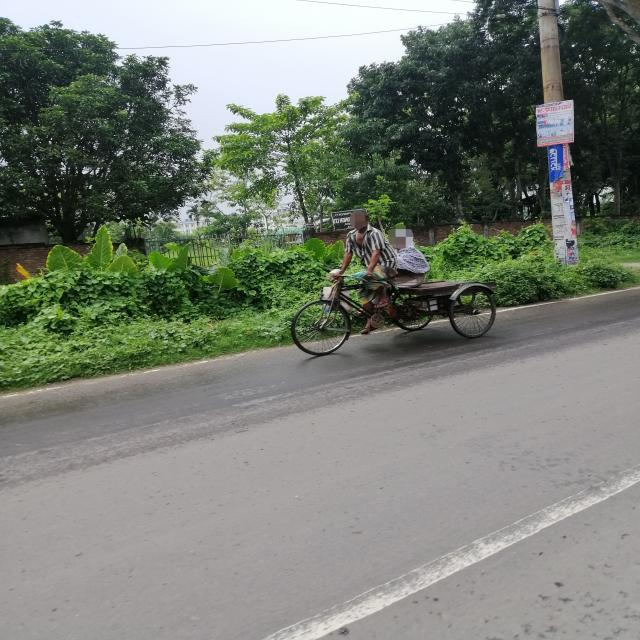Van: (286, 256, 504, 362)
